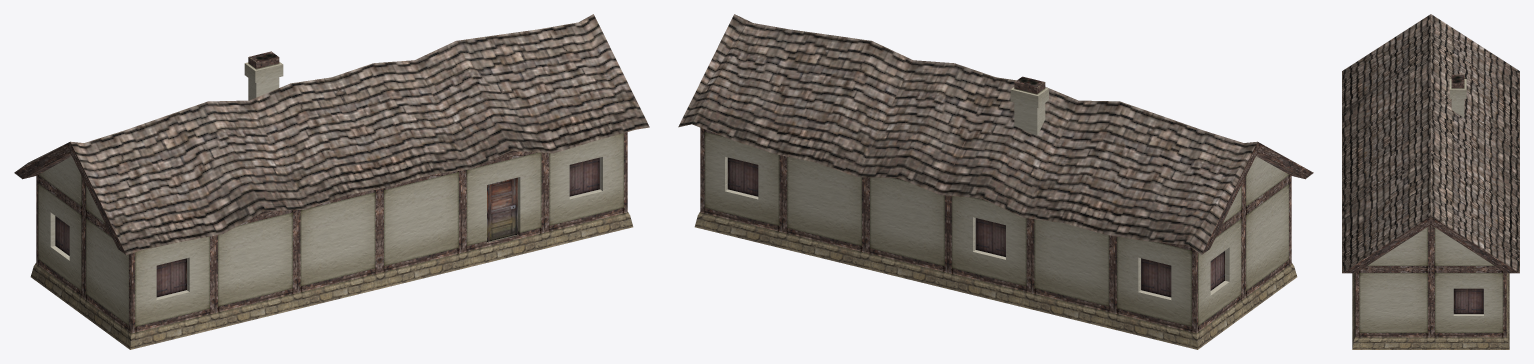
Rendered from s44_b_house_4_3.dae.
The picture shows the model from 3 angles, left to right: view 1: azimuth 30°, elevation 25°; view 2: azimuth 150°, elevation 25°; view 3: azimuth 270°, elevation 25°; orthographic projection. The views are drawn at different scales.
Parts seen in each view (by area): view 1: s44_b_house_1_3; view 2: s44_b_house_1_3; view 3: s44_b_house_1_3.
Boxes of the visible parts, left/top/right/bottom form: s44_b_house_1_3: left=14, top=14, right=649, bottom=349; s44_b_house_1_3: left=678, top=14, right=1313, bottom=349; s44_b_house_1_3: left=1342, top=14, right=1519, bottom=349.
Bounding box in the file's own units: 152 × 56.55 × 54.08.
1 material, 1 textured.
